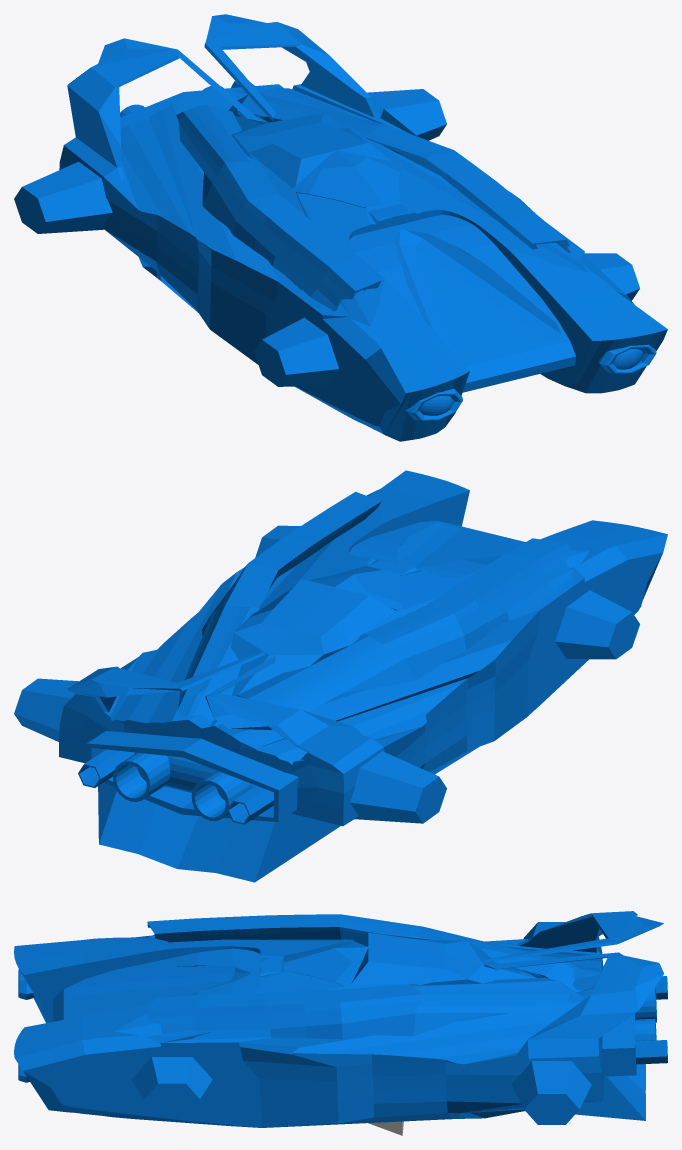
Rendered from Voxtek - Remake v2.fbx.
3 renders of one model, top to bottom at view 1: azimuth 30°, elevation 25°; view 2: azimuth 150°, elevation 25°; view 3: azimuth 270°, elevation 25°, orthographic. The views are drawn at different scales.
Visible parts, largest first — view 1: Cone.001, Torus.001; view 2: Cone.001, Cone.002; view 3: Cone.001, Cone.002, Torus.001.
Part boxes in pixels (left/top/right/bottom): Cone.001: left=14, top=14, right=667, bottom=441; Torus.001: left=405, top=344, right=656, bottom=420; Cone.001: left=14, top=470, right=667, bottom=882; Cone.002: left=78, top=749, right=273, bottom=824; Cone.001: left=14, top=911, right=663, bottom=1127; Cone.002: left=635, top=976, right=667, bottom=1064; Torus.001: left=18, top=969, right=34, bottom=1082.
Bounding box in the file's own units: 655 × 305 × 1055.
